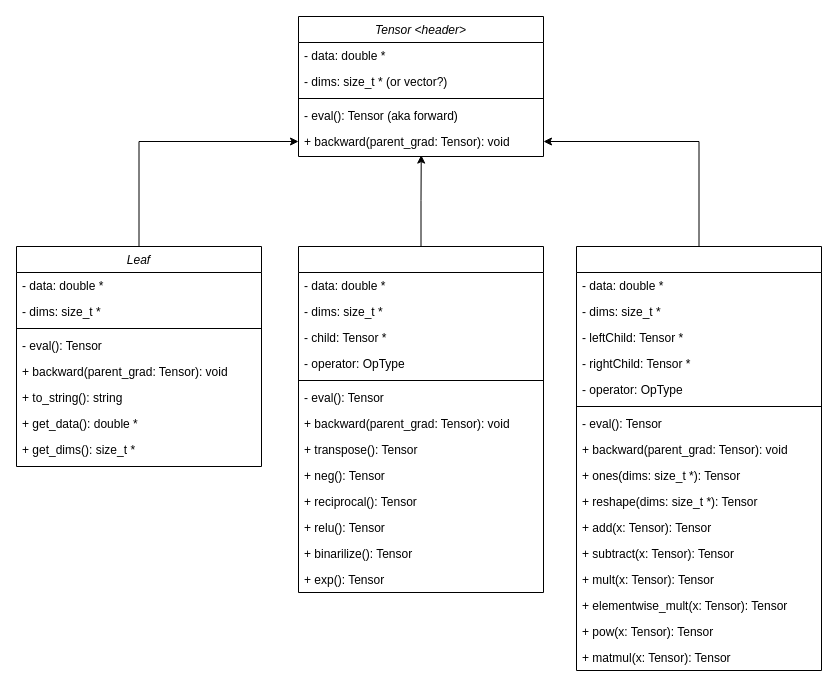
Some shapes in this 838 by 687 pixel diagram are drawn without their labels. Each missing label, with the box of its shape:
BinaryOp: (576, 246, 822, 670)
UnaryOp: (298, 246, 544, 592)
